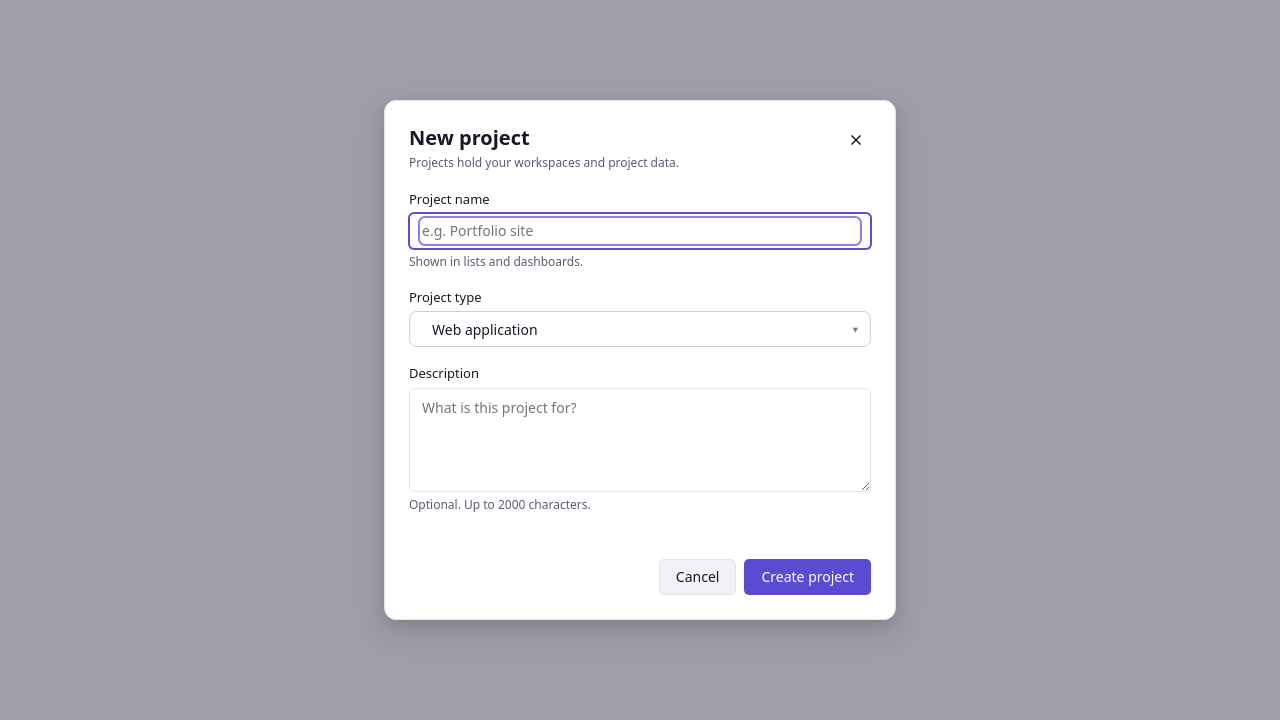
Test: CreateProjectDialog › shows a friendly API error and keeps the dialog open on failure
Type "Alpha" into the field labelled "Project name" at (640, 231), box [422,220,858,242]
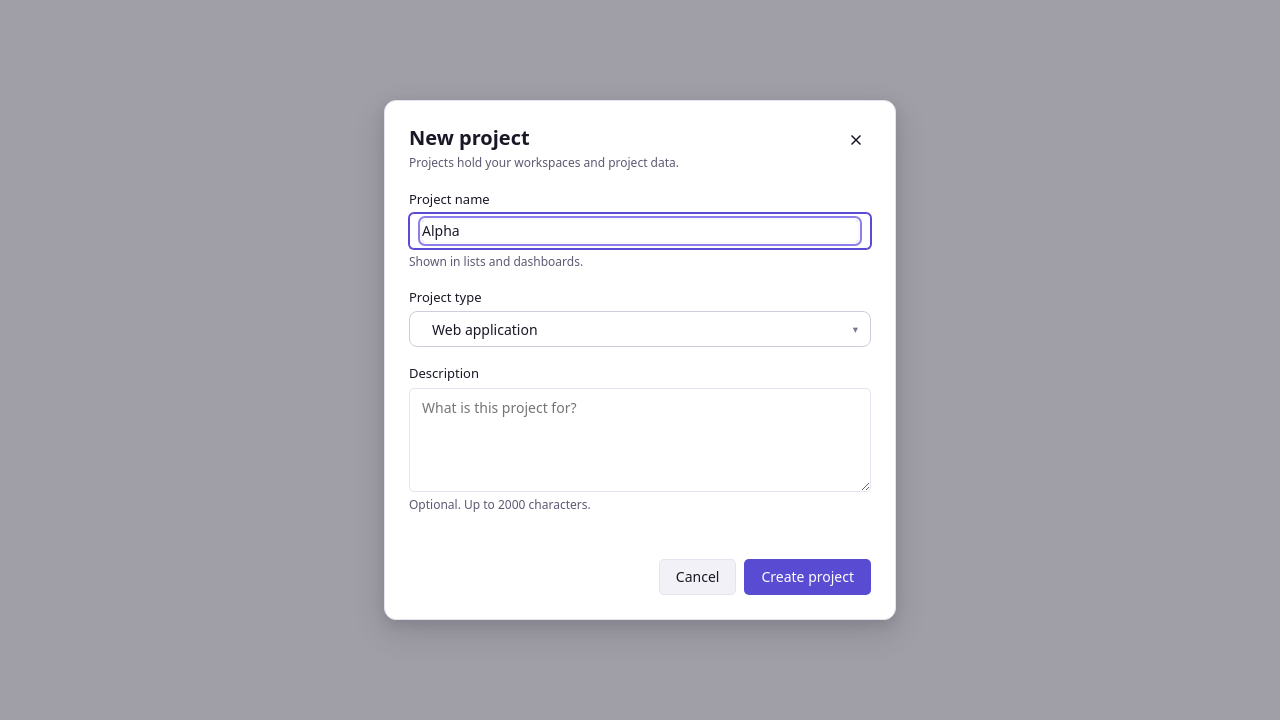
Click the button "Create project" at (808, 577), box [744,559,871,595]
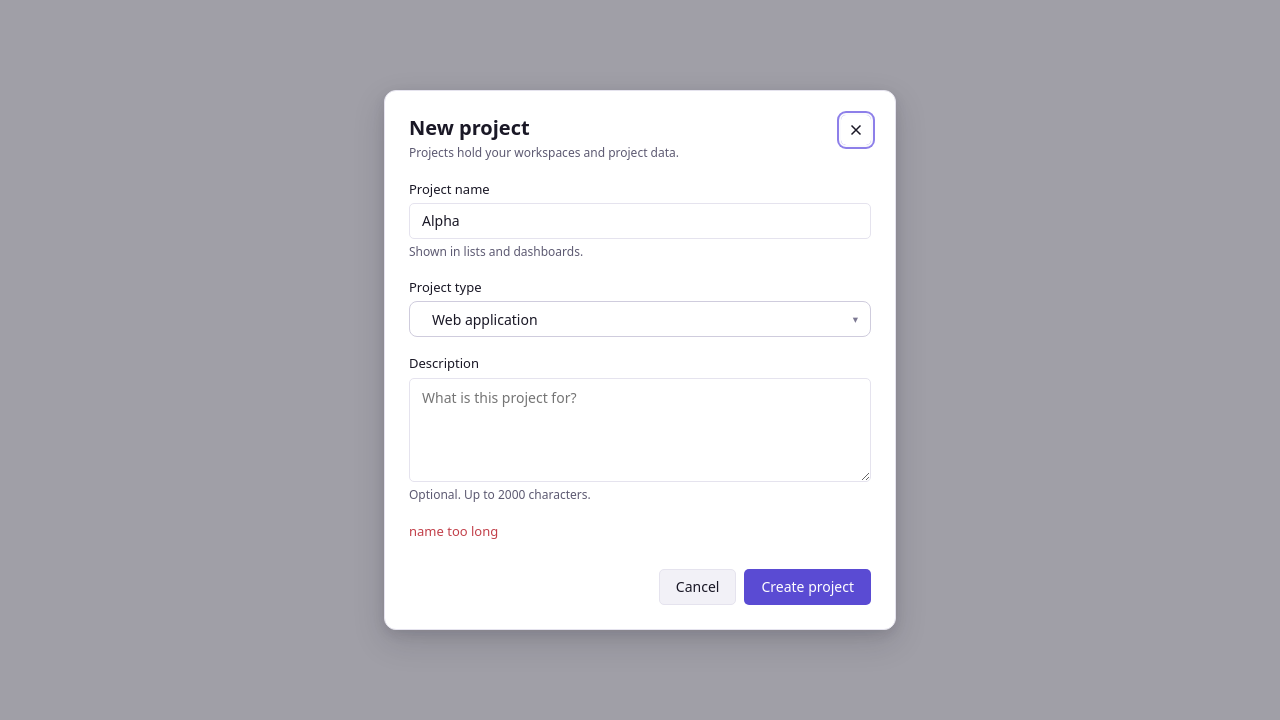
Expected: the dialog is shown, [384,90,896,630]
Result: the message "name too long" is shown at [409,522,498,540]
